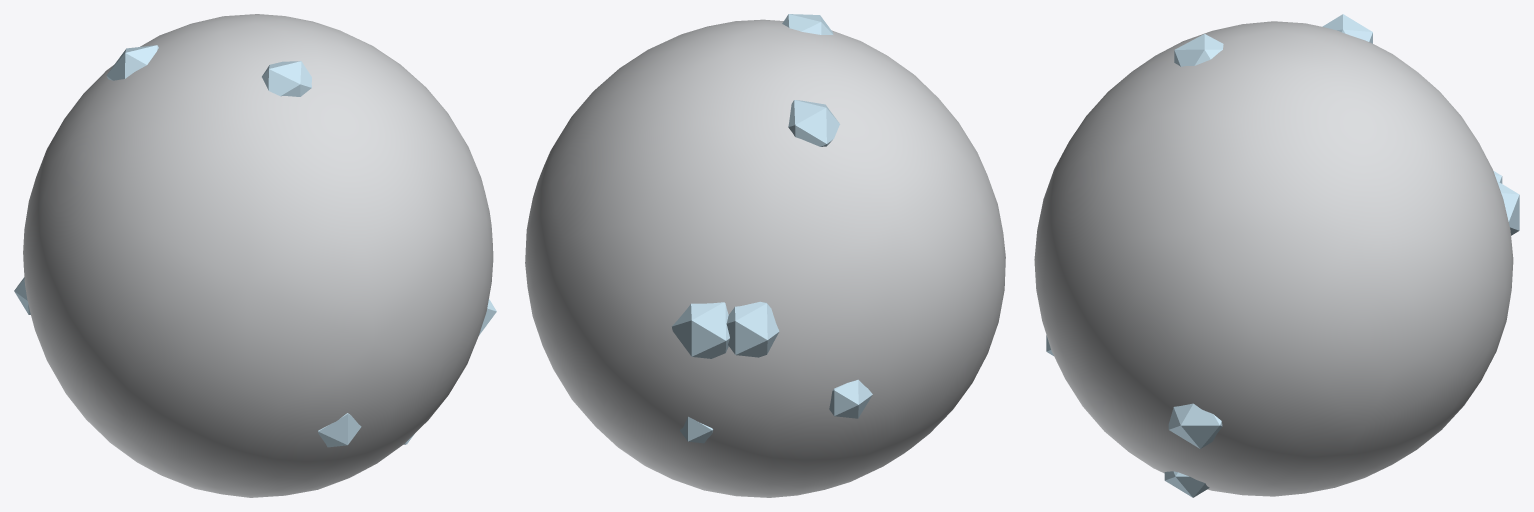
The model's file is SnowballSummitSnowball.glb.
The picture shows the model from 3 angles, left to right: view 1: azimuth 30°, elevation 25°; view 2: azimuth 150°, elevation 25°; view 3: azimuth 270°, elevation 25°; orthographic projection.
Parts seen in each view (by area): view 1: Snow, Ice; view 2: Snow, Ice; view 3: Snow, Ice.
Part boxes in pixels (box(x1,y1,x2,y2)): Snow: box(23, 14, 493, 497); Ice: box(14, 45, 496, 447); Snow: box(525, 19, 1005, 497); Ice: box(672, 14, 872, 443); Snow: box(1034, 21, 1513, 496); Ice: box(1046, 14, 1519, 497).
Bounding box in the file's own units: 2 × 1.99 × 2.03.
